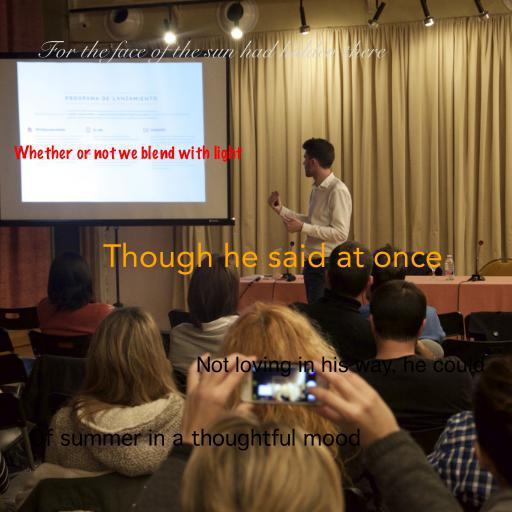Avenir: (103, 242, 443, 275)
Geneva: (29, 428, 361, 451)
Marker Felt: (14, 145, 242, 162)
SF Pro: (195, 356, 485, 377)
Snell Roundhand: (37, 40, 385, 65)
